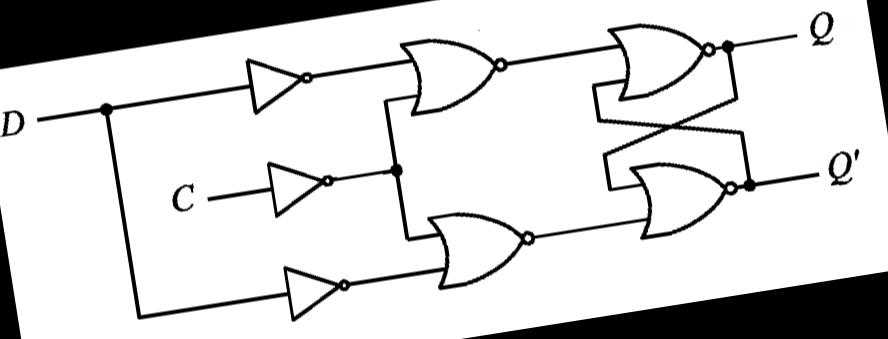nor: (393, 20, 520, 120), (421, 193, 546, 294), (600, 6, 726, 106), (626, 145, 748, 244)
not: (236, 40, 326, 121), (276, 250, 358, 326), (260, 147, 342, 220)
